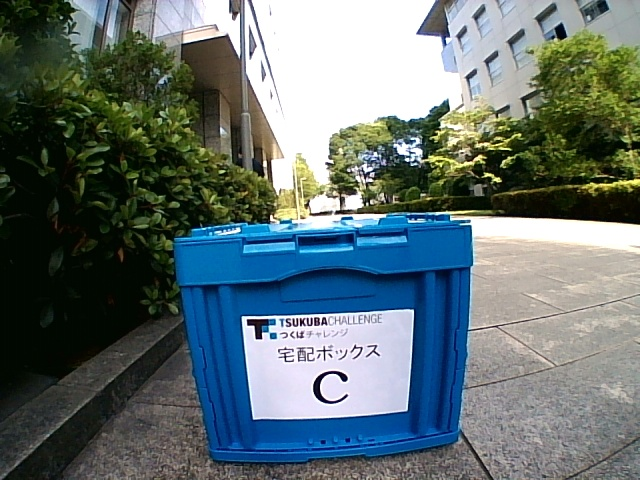green_box: (174, 214, 473, 462)
tag_c: (255, 317, 407, 413)
